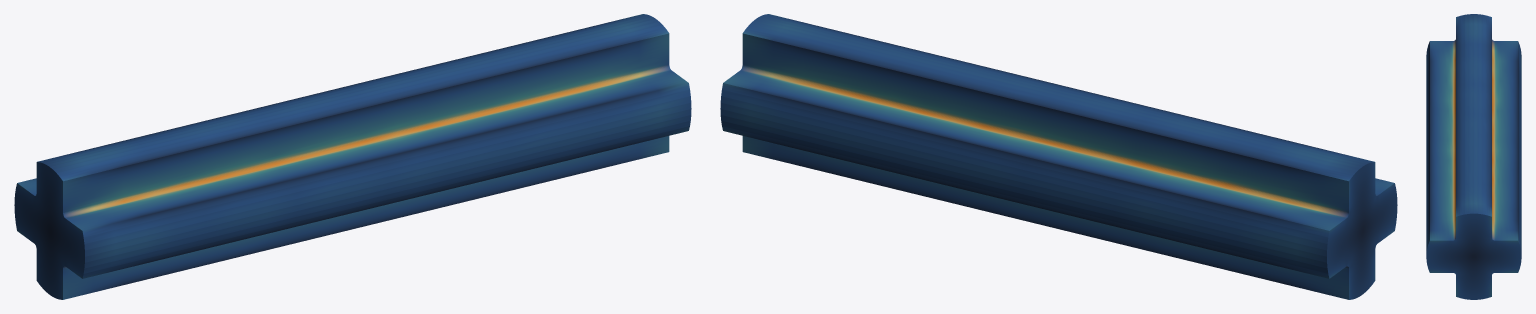
File: feltengely.glb
3 renders of one model, left to right at view 1: azimuth 30°, elevation 25°; view 2: azimuth 150°, elevation 25°; view 3: azimuth 270°, elevation 25°, orthographic. The views are drawn at different scales.
Parts seen in each view (by area): view 1: fem; view 2: fem; view 3: fem.
Boxes of the visible parts, bbox=[...] form: fem: bbox=[14, 14, 691, 299]; fem: bbox=[720, 14, 1397, 299]; fem: bbox=[1426, 14, 1521, 299].
Size of the model in its own units: 23.8 by 4.8 by 4.8.
